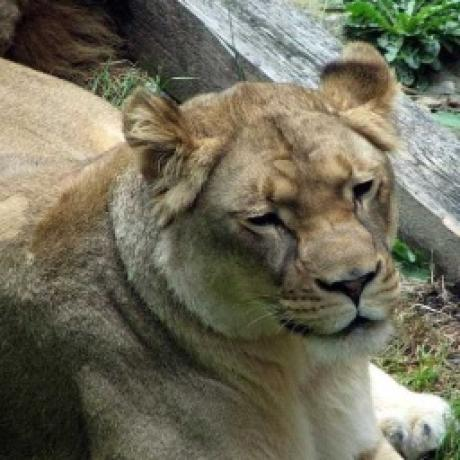Lion: (0, 40, 460, 460)
